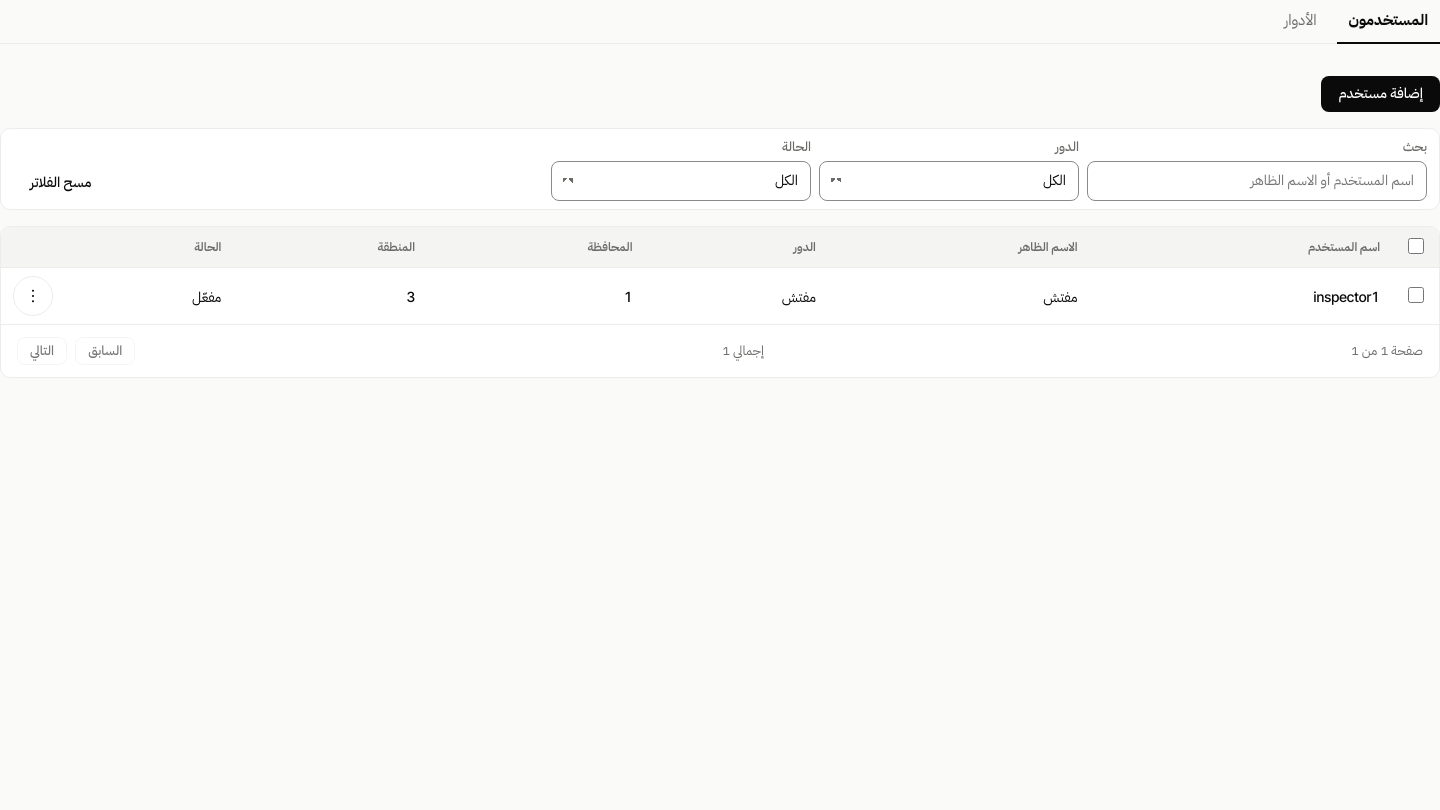
Test: users › resets a password and shows the 16 characters once
This screenshot has width=1440, height=810.
Click the button named "إجراءات": coordinates (33, 296) [13,276,53,316]
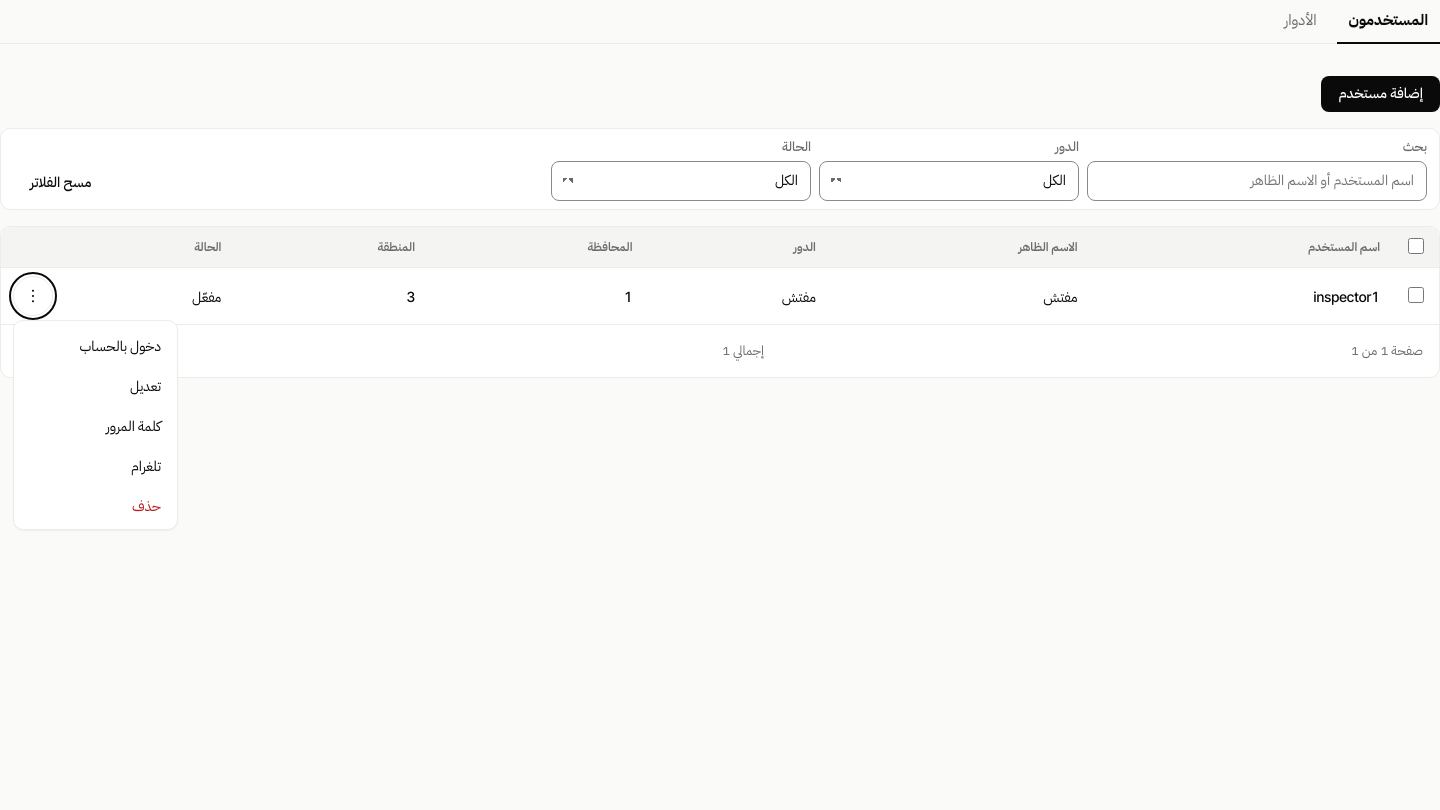
Click the menu item "كلمة المرور": coordinates (96, 425) [18,405,173,445]
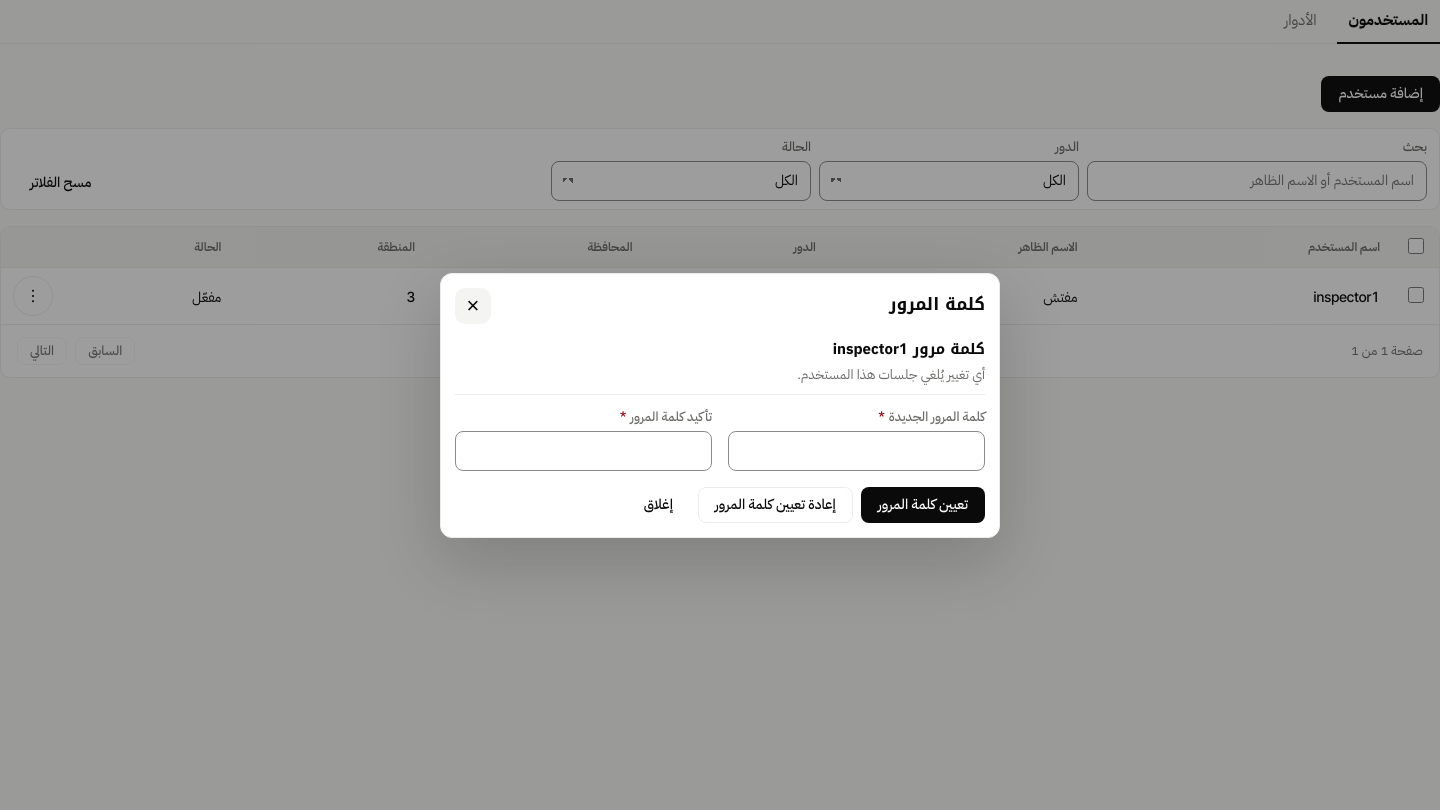
Click the button "إعادة تعيين كلمة المرور": coordinates (775, 504) [698,486,853,522]
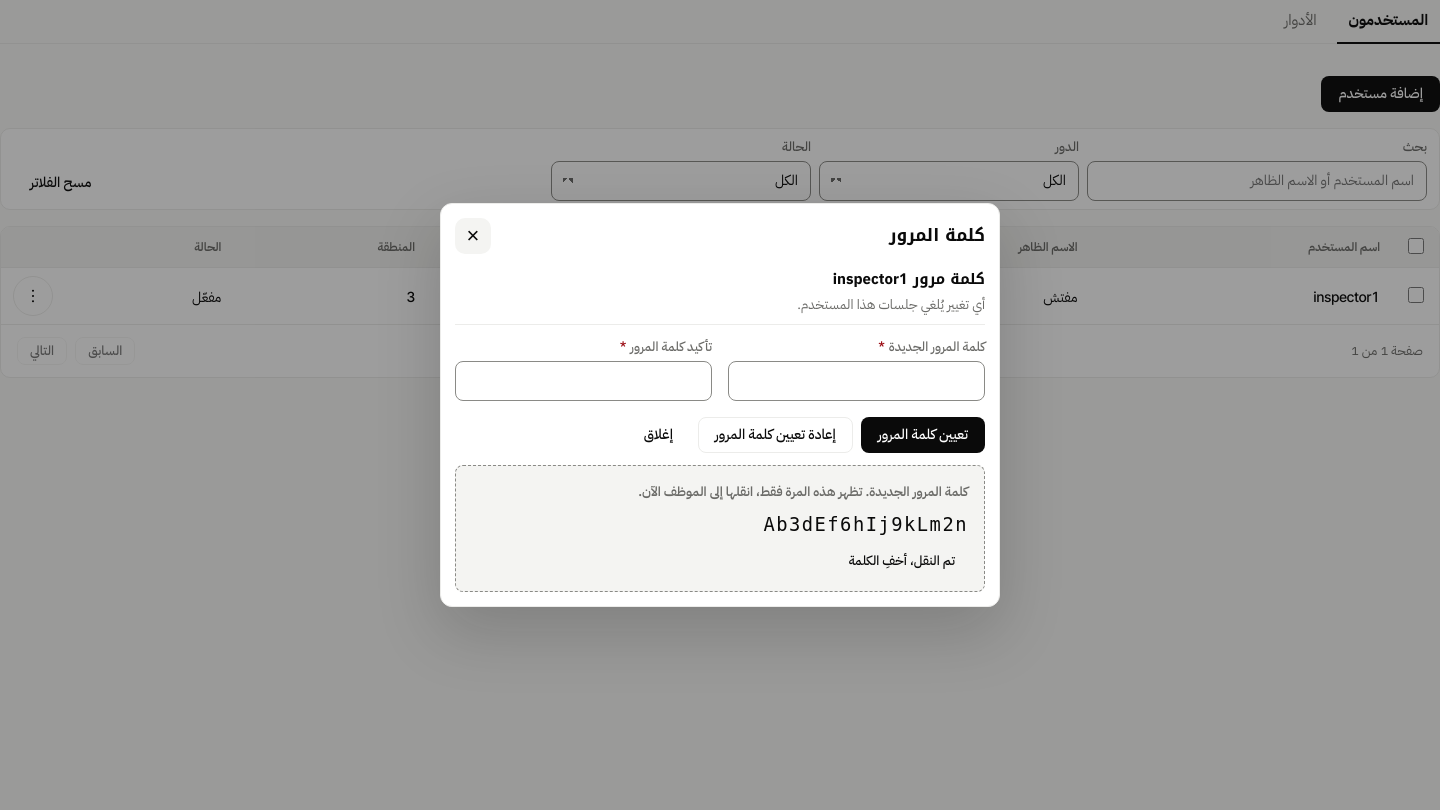
Result: the text "Ab3dEf6hIj9kLm2n" is shown once at [763,510,968,539]
Click the button "تم النقل، أخفِ الكلمة": coordinates (902, 561) [836,547,968,575]
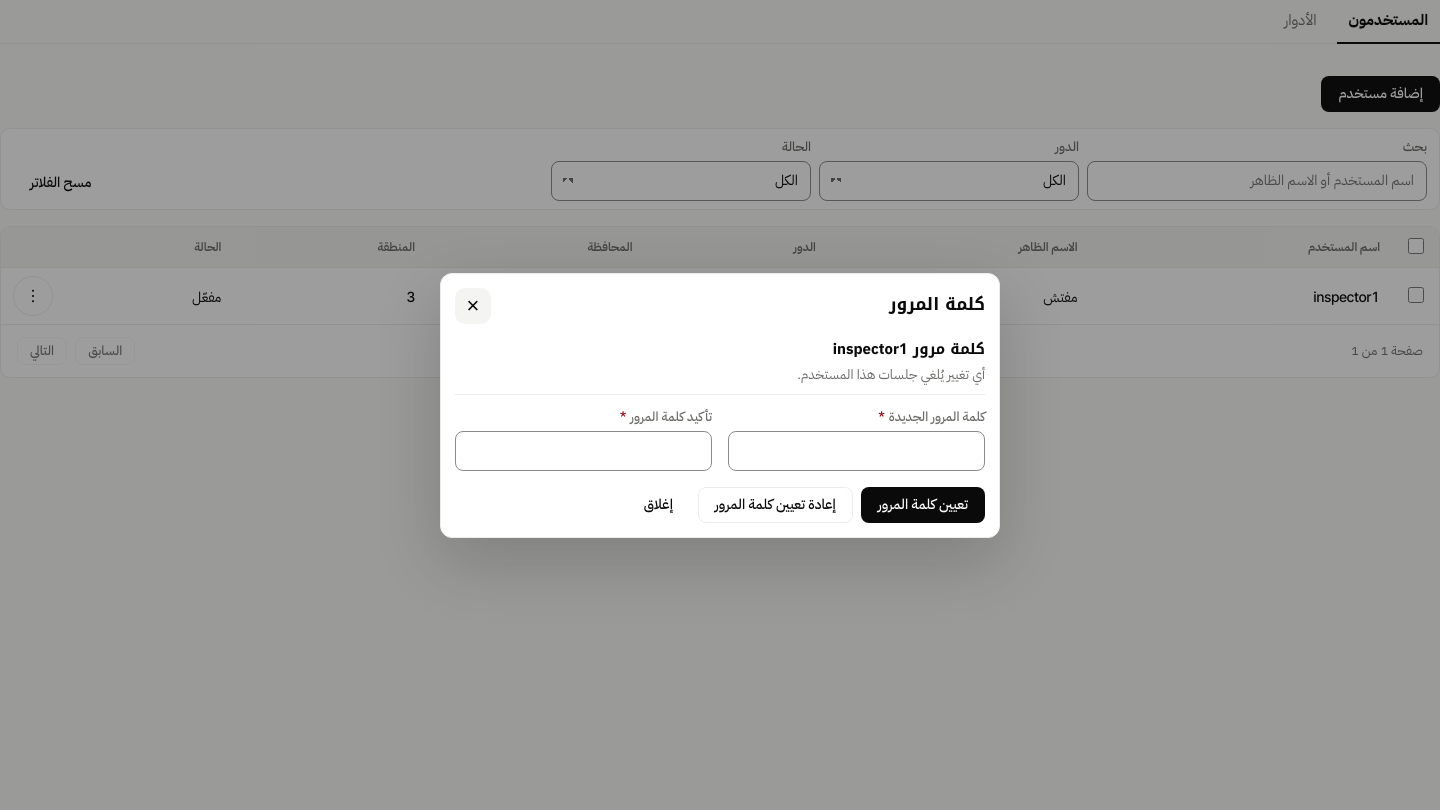
Result: the text "Ab3dEf6hIj9kLm2n" is gone
